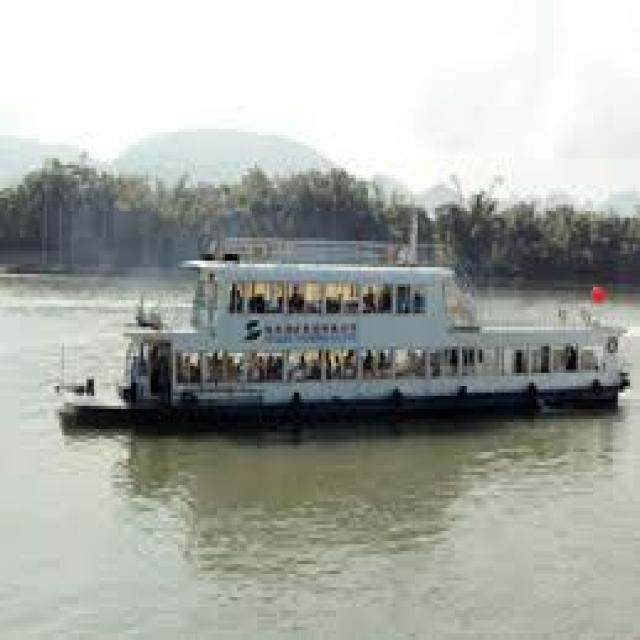passenger ship: (59, 230, 622, 427)
